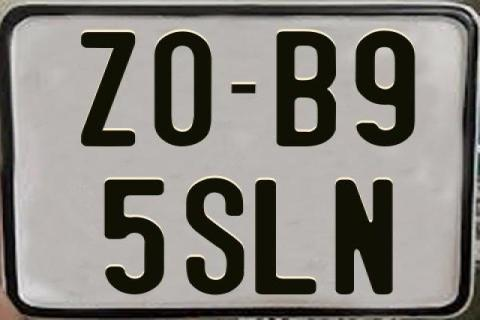0: (101, 177, 167, 293), (354, 29, 417, 150), (152, 30, 212, 148)
B: (276, 29, 338, 149)
L: (253, 178, 317, 292)
N: (333, 178, 393, 294)
S: (185, 177, 246, 295)
Z: (78, 30, 135, 146)
